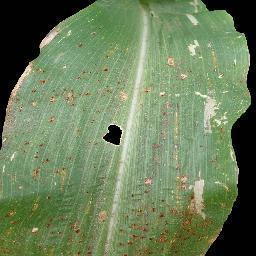Corn_Common_Rust: (0, 210, 109, 256), (118, 174, 174, 256), (175, 171, 218, 256), (6, 82, 128, 111), (17, 17, 67, 82), (150, 90, 182, 170), (232, 22, 252, 126), (197, 90, 231, 134), (228, 140, 243, 206), (99, 43, 122, 79), (207, 42, 227, 80), (0, 112, 15, 155), (100, 121, 123, 148), (34, 143, 47, 179), (185, 0, 201, 27), (0, 155, 16, 174), (189, 38, 202, 57), (55, 167, 68, 186), (163, 54, 178, 70), (75, 67, 93, 79), (180, 70, 193, 81), (75, 40, 89, 50), (32, 192, 40, 209), (142, 83, 151, 96), (88, 29, 102, 37), (47, 114, 58, 123), (65, 154, 73, 163), (15, 185, 27, 191), (23, 139, 32, 146), (46, 194, 51, 202)
